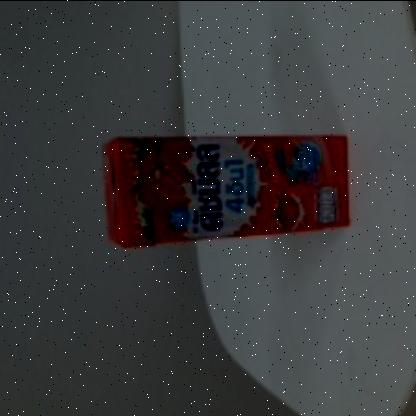Others: (98, 120, 359, 256)
